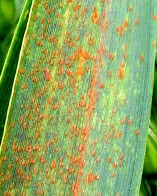Leaf Rust: (5, 20, 117, 184)
